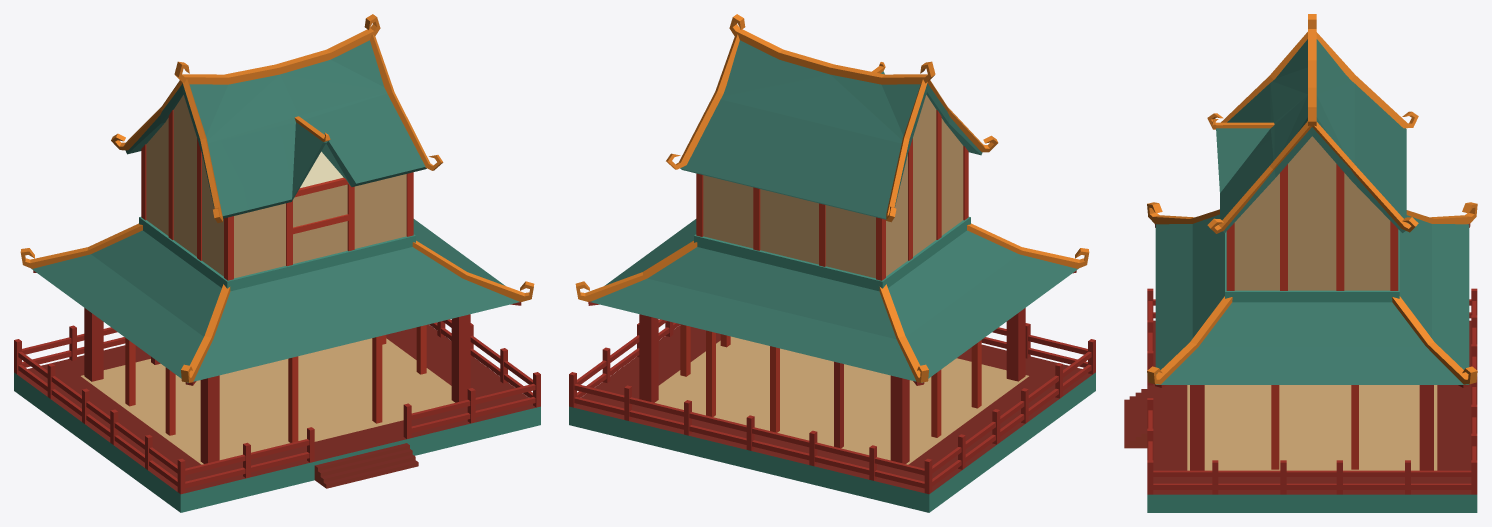
The model's file is HouseChinese.gltf.
3 renders of one model, left to right at view 1: azimuth 30°, elevation 25°; view 2: azimuth 150°, elevation 25°; view 3: azimuth 270°, elevation 25°, orthographic.
Visible parts, largest first — view 1: ChineseHouse_glb; view 2: ChineseHouse_glb; view 3: ChineseHouse_glb.
Part boxes in pixels (x1,y1,x2,y2): ChineseHouse_glb: [14, 14, 540, 512]; ChineseHouse_glb: [569, 14, 1095, 512]; ChineseHouse_glb: [1124, 14, 1477, 512].
Size of what is drawn, in the model's own units: 12.06 by 11.8 by 10.36.
Materials: 1 (1 with a texture image).
